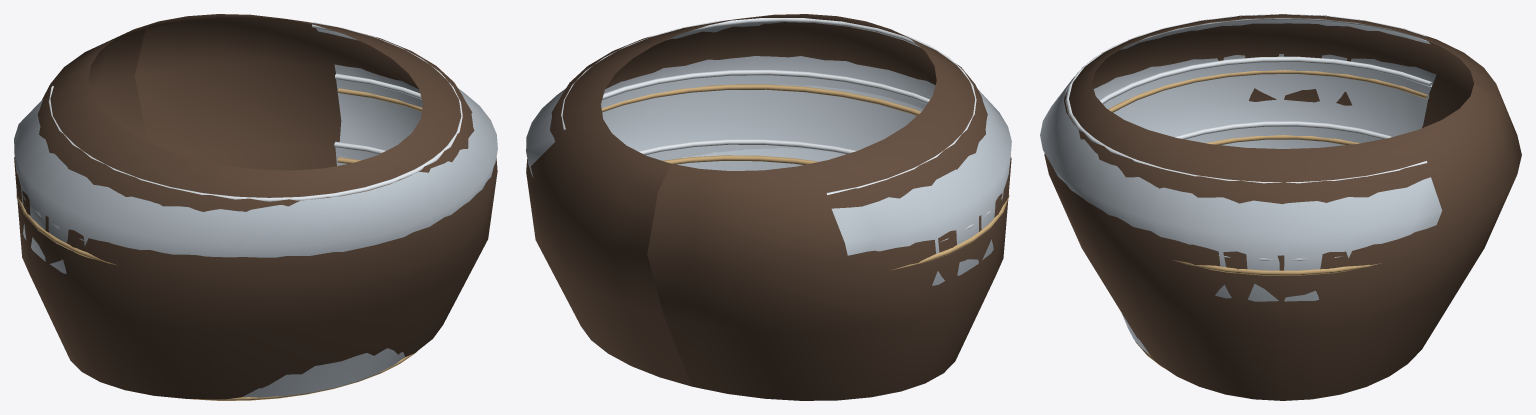
Rendered from boot.glb.
The picture shows the model from 3 angles, left to right: view 1: azimuth 30°, elevation 25°; view 2: azimuth 150°, elevation 25°; view 3: azimuth 270°, elevation 25°; orthographic projection.
Visible parts, largest first — view 1: boot_leather, sabatons1, sabatons2, sabatons3, sabatons1_bevel, sabatons1_gold_rim, sabatons2_bevel, sabatons3_gold_rim; view 2: boot_leather, sabatons2, sabatons1, sabatons1_gold_rim, sabatons2_bevel, sabatons3, sabatons1_bevel, sabatons3_bevel, sabatons2_gold_rim; view 3: boot_leather, sabatons1, sabatons2, sabatons3, sabatons1_gold_rim, sabatons2_bevel, sabatons1_bevel, sabatons3_bevel, sabatons2_gold_rim.
Boxes of the visible parts, bbox=[...] form: boot_leather: bbox=[14, 14, 497, 399]; sabatons1: bbox=[14, 28, 497, 257]; sabatons2: bbox=[23, 79, 422, 273]; sabatons3: bbox=[242, 147, 404, 397]; sabatons1_bevel: bbox=[48, 22, 462, 201]; sabatons1_gold_rim: bbox=[16, 88, 422, 265]; sabatons2_bevel: bbox=[23, 73, 421, 241]; sabatons3_gold_rim: bbox=[190, 351, 417, 400]; boot_leather: bbox=[526, 14, 1011, 400]; sabatons2: bbox=[601, 75, 993, 285]; sabatons1: bbox=[526, 22, 1011, 255]; sabatons1_gold_rim: bbox=[601, 84, 1009, 270]; sabatons2_bevel: bbox=[602, 69, 1002, 241]; sabatons3: bbox=[646, 144, 808, 170]; sabatons1_bevel: bbox=[561, 18, 976, 194]; sabatons3_bevel: bbox=[638, 139, 856, 154]; sabatons2_gold_rim: bbox=[662, 155, 819, 164]; boot_leather: bbox=[1044, 14, 1521, 400]; sabatons1: bbox=[1040, 19, 1442, 270]; sabatons2: bbox=[1103, 62, 1430, 301]; sabatons3: bbox=[1121, 126, 1380, 354]; sabatons1_gold_rim: bbox=[1108, 70, 1429, 275]; sabatons2_bevel: bbox=[1099, 56, 1432, 260]; sabatons1_bevel: bbox=[1065, 14, 1427, 183]; sabatons3_bevel: bbox=[1174, 121, 1391, 139]; sabatons2_gold_rim: bbox=[1205, 135, 1360, 144].
Bounding box in the file's own units: 2.02 × 1.09 × 2.02.
